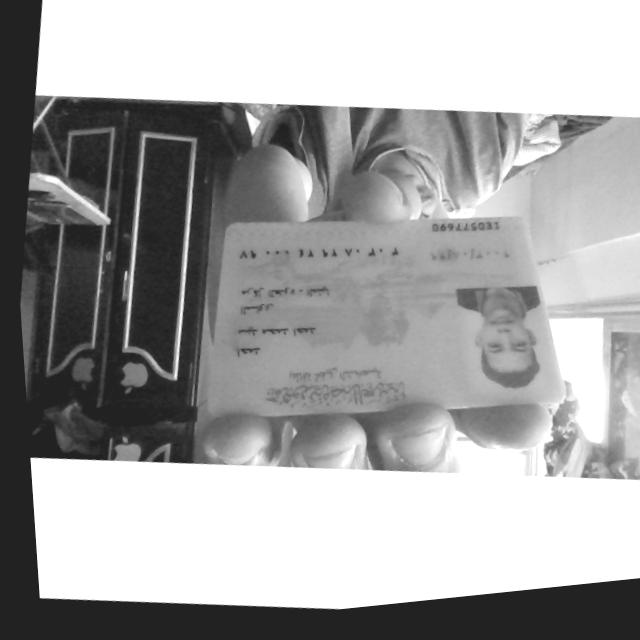front: (207, 216, 564, 415)
